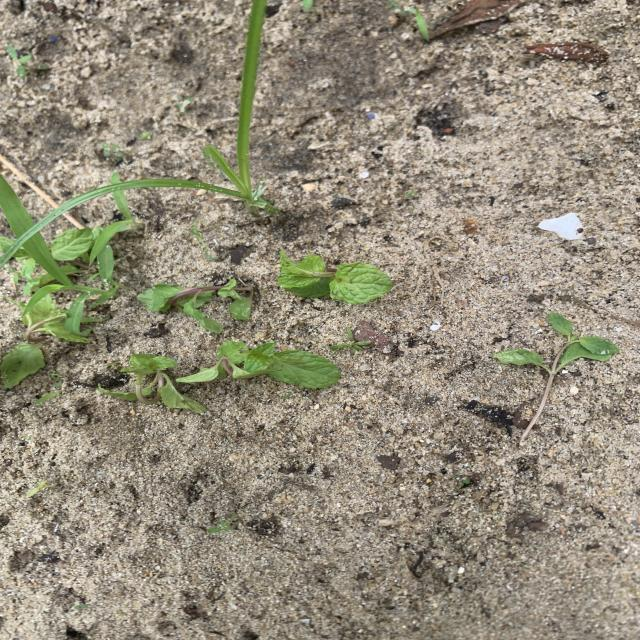crop: (492, 312, 619, 438), (176, 341, 340, 388), (138, 279, 255, 333), (277, 250, 393, 304), (103, 354, 206, 413)
weed: (0, 0, 278, 269), (23, 232, 116, 334), (90, 190, 134, 264), (7, 45, 50, 78), (394, 3, 430, 42), (190, 219, 219, 262), (330, 328, 372, 355), (33, 378, 66, 404), (207, 514, 240, 534), (99, 142, 126, 163), (23, 481, 52, 499), (302, 0, 313, 11), (140, 131, 151, 140), (405, 191, 415, 199)
